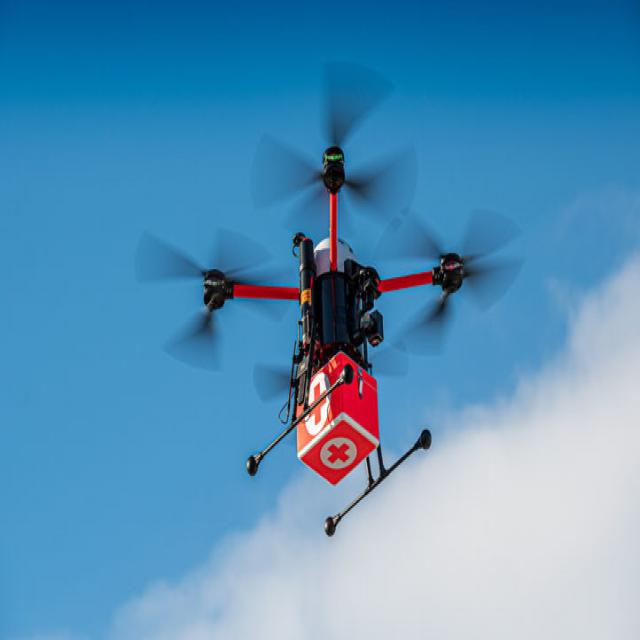drones: (112, 45, 529, 564)
